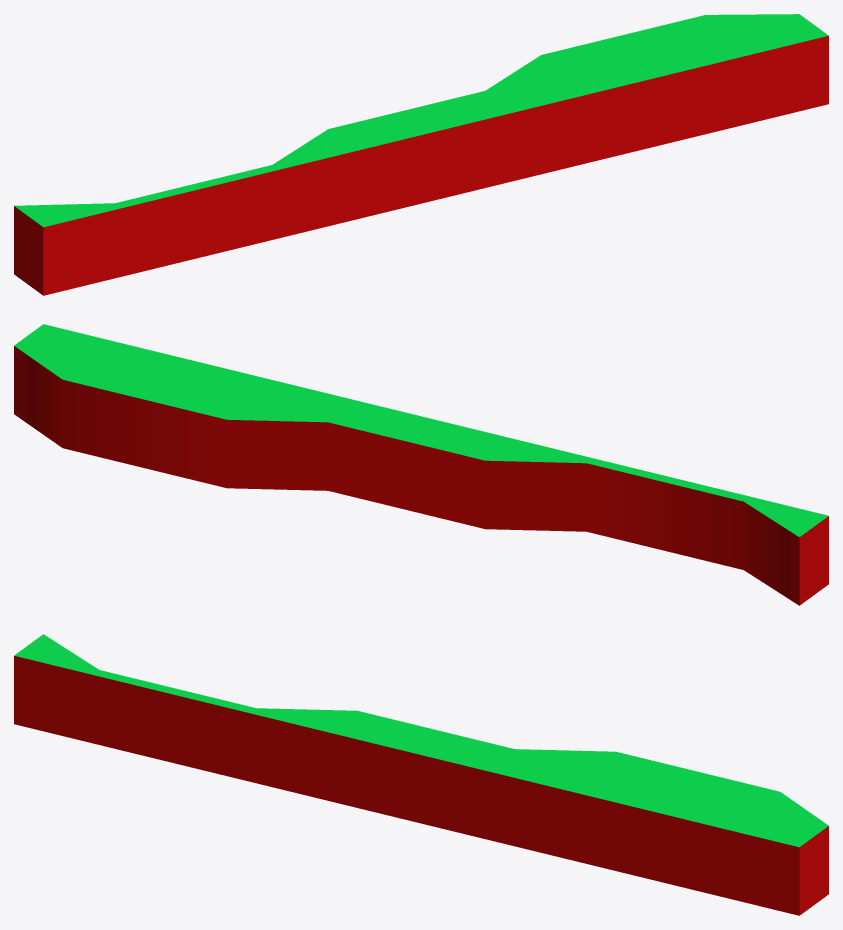
Rendered from GroundLittleCrackedLeft.fbx.
The picture shows the model from 3 angles, top to bottom: view 1: azimuth 30°, elevation 25°; view 2: azimuth 150°, elevation 25°; view 3: azimuth 330°, elevation 25°; orthographic projection.
Visible parts, largest first — view 1: polySurface1; view 2: polySurface1; view 3: polySurface1.
Boxes of the visible parts, <box> form: polySurface1: <box>14,14,828,295</box>; polySurface1: <box>14,324,828,605</box>; polySurface1: <box>14,634,828,915</box>.
Bounding box in the file's own units: 6 × 0.5 × 0.69.
